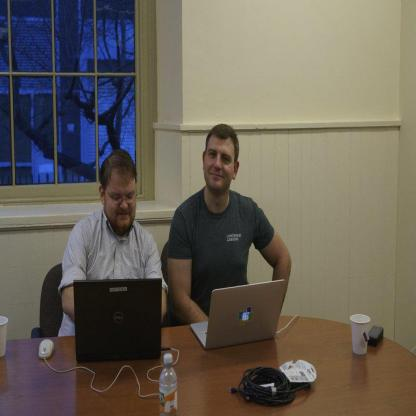board: (75, 278, 161, 360), (190, 279, 284, 347), (160, 352, 178, 416), (350, 312, 370, 356), (0, 316, 9, 356)
